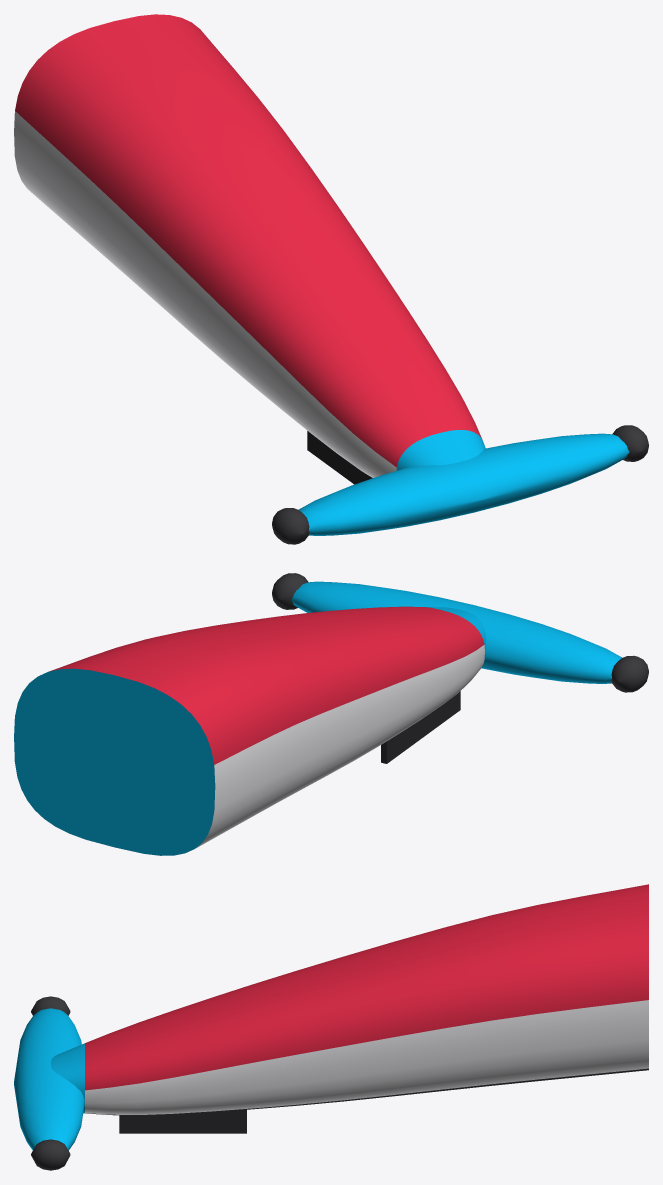
Rendered from hammer.glb.
3 renders of one model, top to bottom at view 1: azimuth 30°, elevation 25°; view 2: azimuth 150°, elevation 25°; view 3: azimuth 270°, elevation 25°, orthographic. The views are drawn at different scales.
Parts seen in each view (by area): view 1: Nose_hammer; view 2: Nose_hammer; view 3: Nose_hammer.
Part boxes in pixels (<box>): Nose_hammer: <box>14,14,648,544</box>; Nose_hammer: <box>14,573,648,855</box>; Nose_hammer: <box>14,884,648,1170</box>.
Size of the model in its own units: 0.754 by 0.485 by 1.29.
